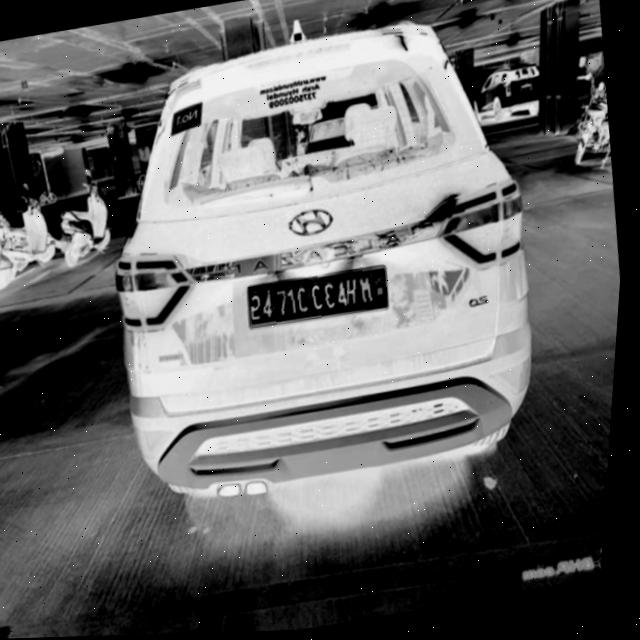1: (288, 289, 303, 317)
3: (326, 285, 343, 314)
4: (338, 283, 354, 312), (265, 294, 281, 320)
5: (253, 294, 269, 324)
7: (278, 290, 294, 322)
C: (300, 287, 316, 317), (313, 285, 329, 312)
H: (348, 279, 366, 310)
IND: (373, 273, 393, 302)
Indian_registered: (252, 269, 393, 328)
M: (361, 279, 379, 308)
